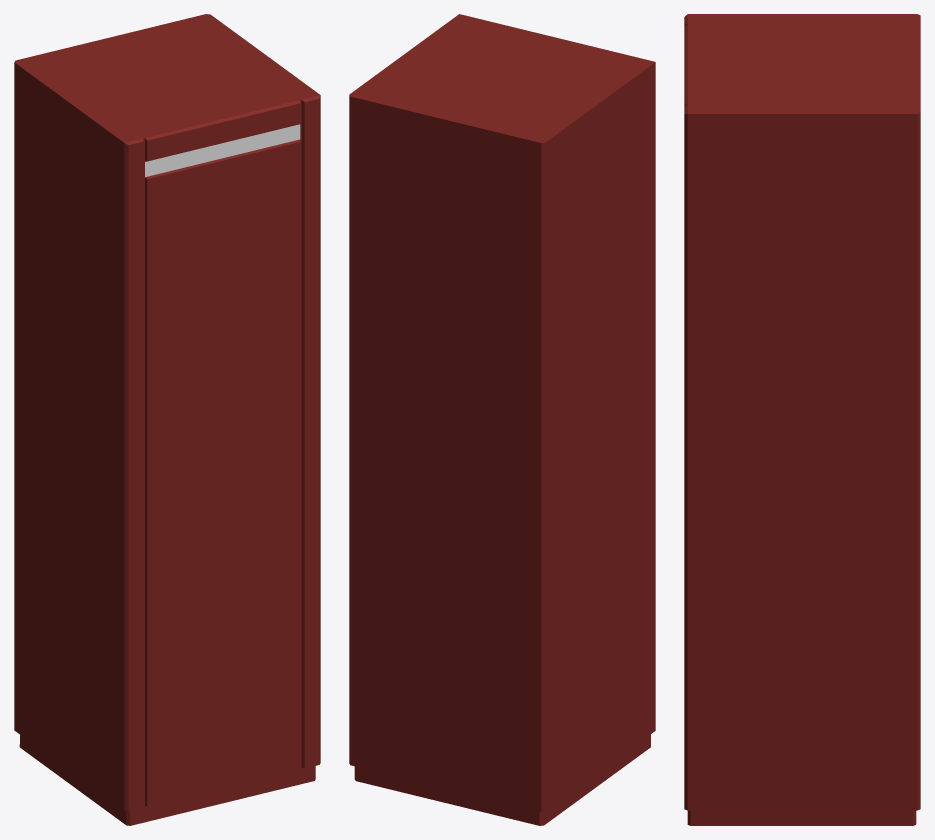
Rendered from HZTZTCU0104.FBX.
The picture shows the model from 3 angles, left to right: view 1: azimuth 30°, elevation 25°; view 2: azimuth 150°, elevation 25°; view 3: azimuth 270°, elevation 25°; orthographic projection. The views are drawn at different scales.
Visible parts, largest first — view 1: HZTZTCU0104; view 2: HZTZTCU0104; view 3: HZTZTCU0104.
Part boxes in pixels (box(x1,y1,x2,y2)): HZTZTCU0104: box(14, 14, 320, 825); HZTZTCU0104: box(349, 14, 655, 825); HZTZTCU0104: box(684, 14, 920, 825).
Size of the model in its own units: 60 by 60 by 200.
